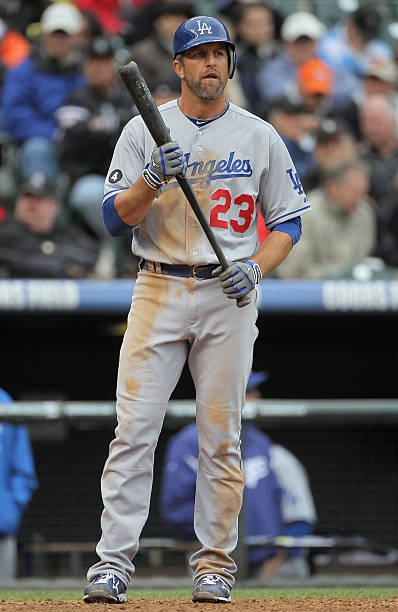bita: (113, 60, 236, 290)
